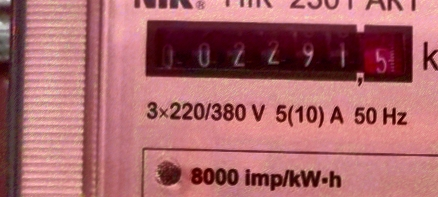0: (157, 38, 175, 67), (195, 38, 211, 67)
1: (334, 36, 348, 70)
2: (230, 38, 246, 67), (265, 36, 279, 65)
5: (372, 43, 388, 73)
9: (299, 37, 315, 67)
screen: (140, 12, 417, 89)
